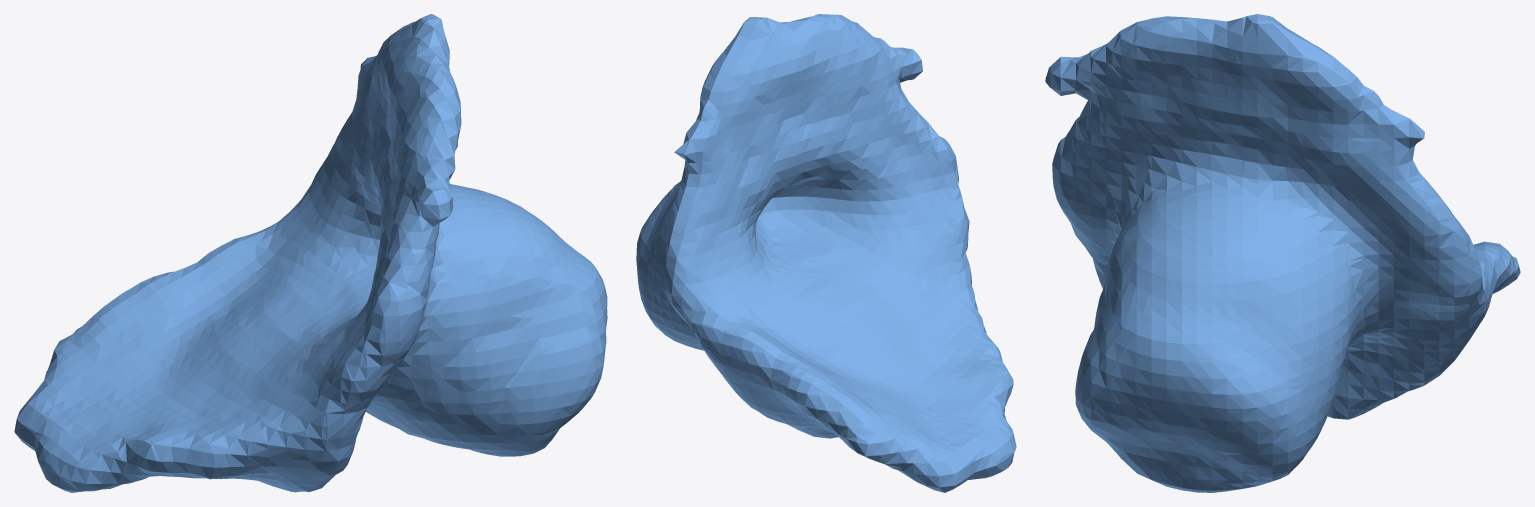
File: water_0022.glb
The picture shows the model from 3 angles, left to right: view 1: azimuth 30°, elevation 25°; view 2: azimuth 150°, elevation 25°; view 3: azimuth 270°, elevation 25°; orthographic projection. The views are drawn at different scales.
Parts seen in each view (by area): view 1: Water_0022; view 2: Water_0022; view 3: Water_0022.
Boxes of the visible parts, x1=… form: Water_0022: x1=14, y1=14, x2=607, y2=492; Water_0022: x1=636, y1=14, x2=1016, y2=492; Water_0022: x1=1045, y1=14, x2=1520, y2=492.
Bounding box in the file's own units: 2.29 × 1.96 × 1.83.
